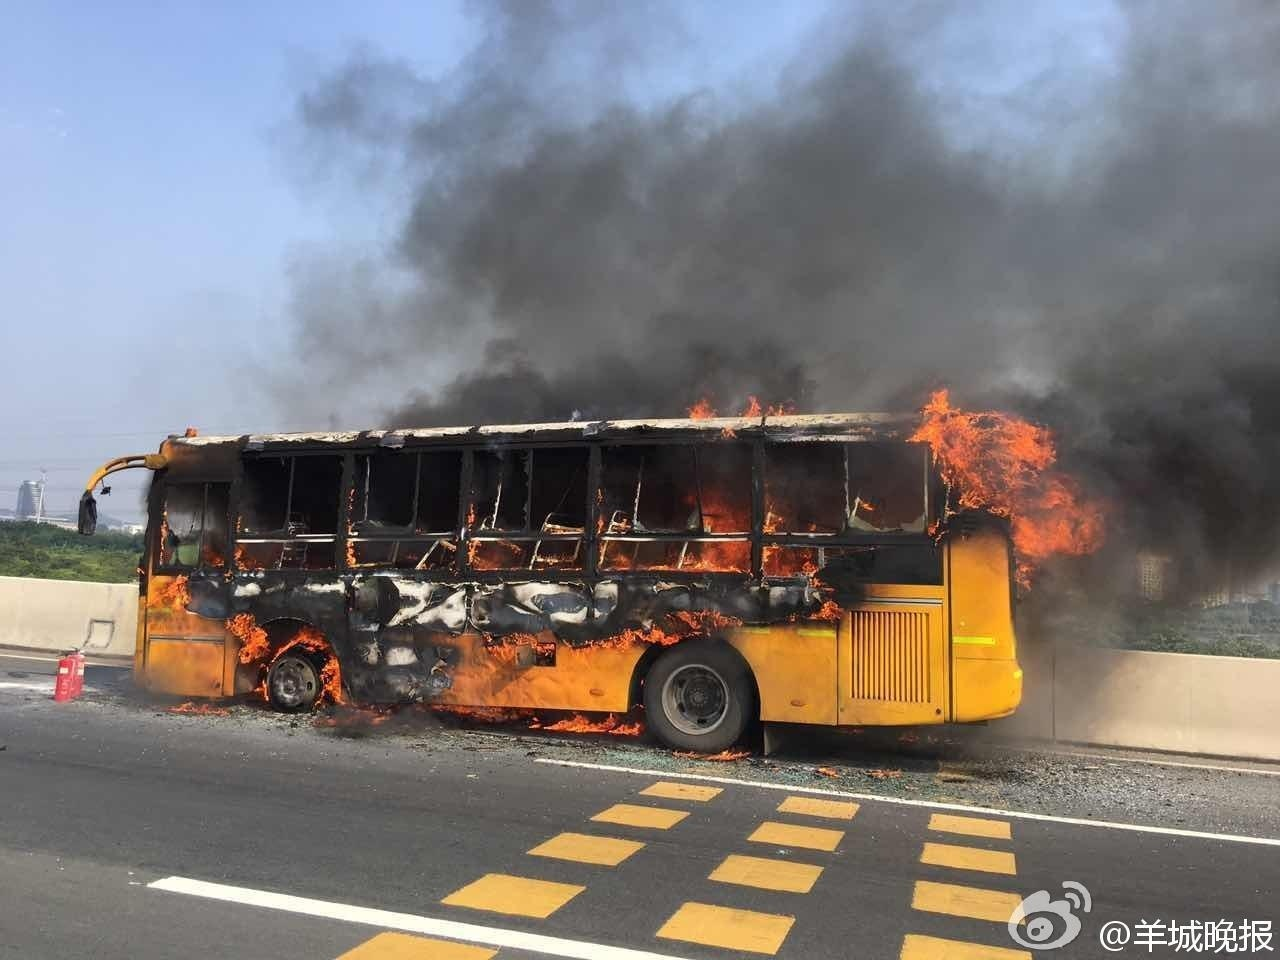fire: (918, 396, 1104, 564)
